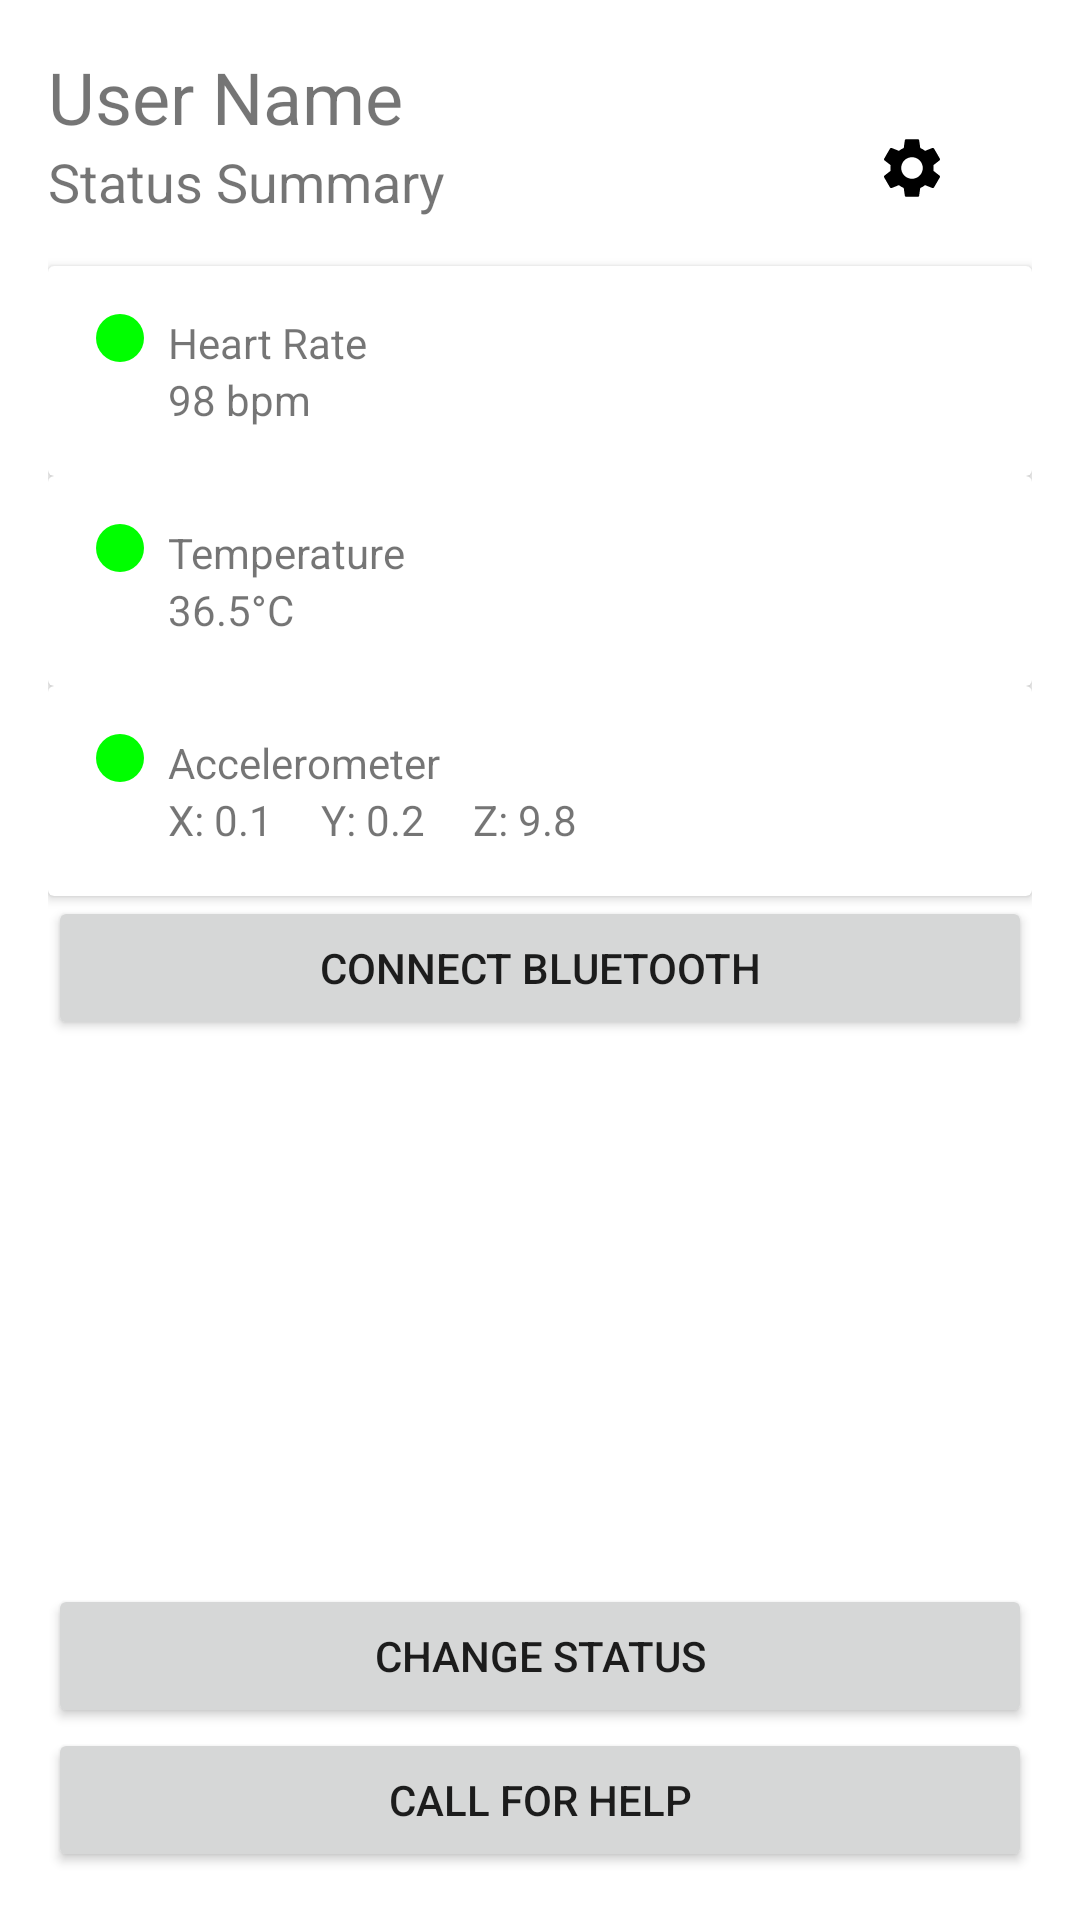

Icons on this 1080*1920 Android screen, each with its box as (x1, y1, x2, y2):
settings: (884, 139, 940, 197)
